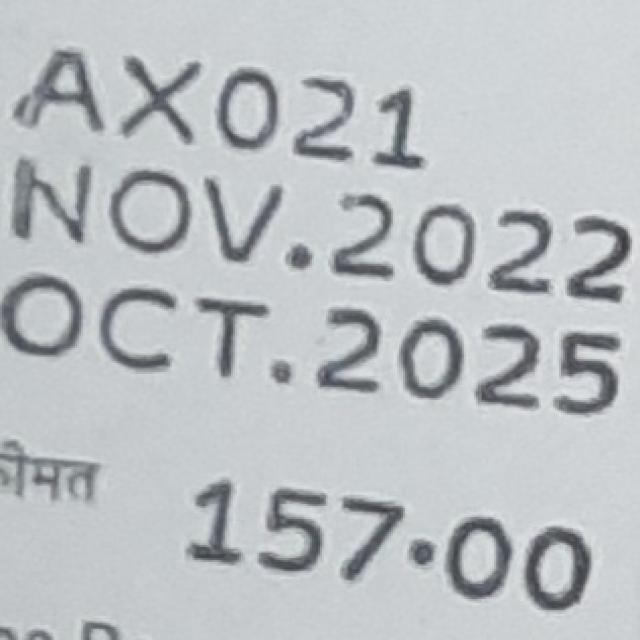sentence: (11, 158, 634, 301), (3, 274, 621, 413), (186, 481, 597, 610), (12, 50, 425, 168)
